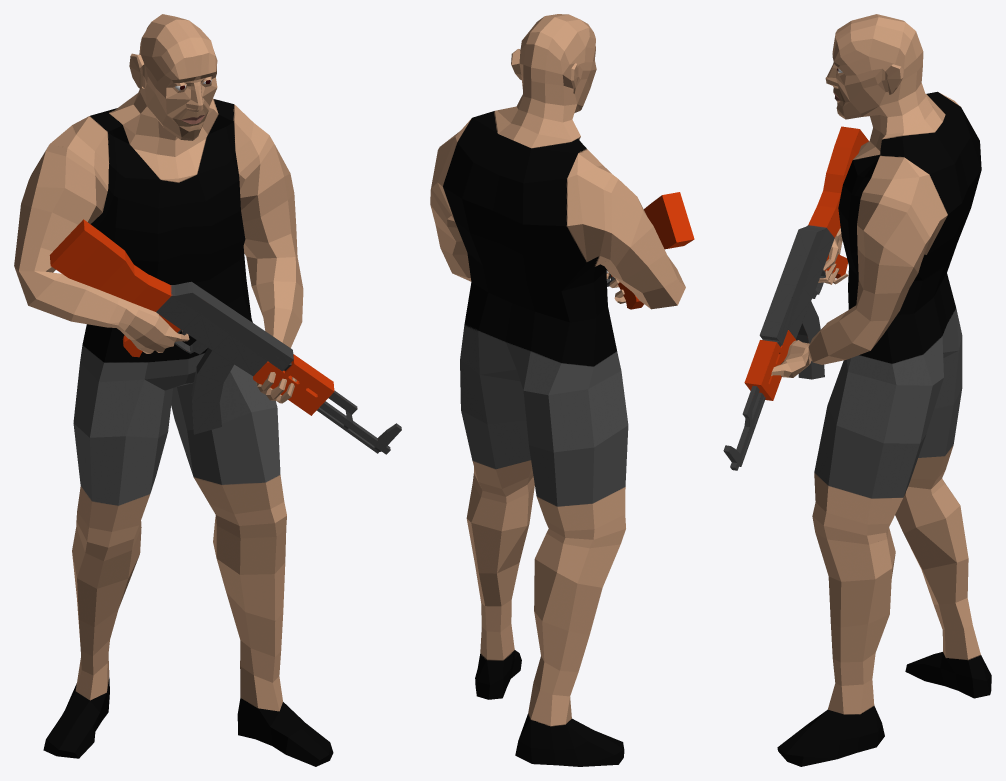
File: PlayerIdle(34).obj
The picture shows the model from 3 angles, left to right: view 1: azimuth 30°, elevation 25°; view 2: azimuth 150°, elevation 25°; view 3: azimuth 270°, elevation 25°; orthographic projection. The views are drawn at different scales.
Visible parts, largest first — view 1: Plane002, Object001; view 2: Plane002, Object001; view 3: Plane002, Object001.
Part boxes in pixels (<box>): Plane002: <box>14,14,333,766</box>; Object001: <box>49,219,401,454</box>; Plane002: <box>430,14,685,766</box>; Object001: <box>606,192,694,309</box>; Plane002: <box>771,14,991,766</box>; Object001: <box>723,126,868,470</box>.
Bounding box in the file's own units: 748 × 1807 × 631.
